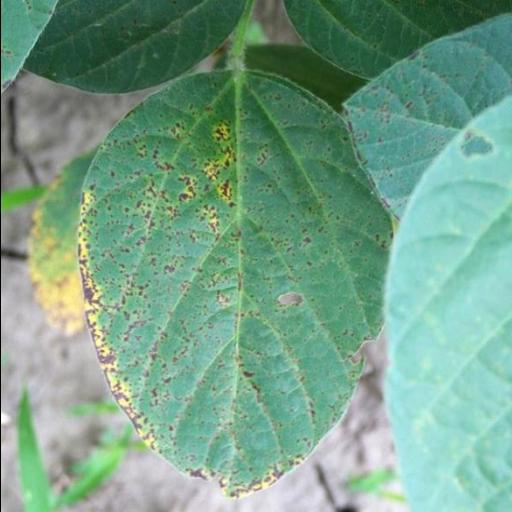disease_tomato: (74, 62, 382, 510)
